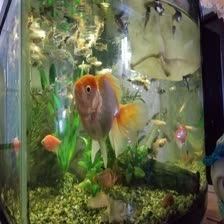Cuezo: (71, 69, 140, 155)
Plano: (37, 132, 64, 153), (175, 122, 187, 146)
